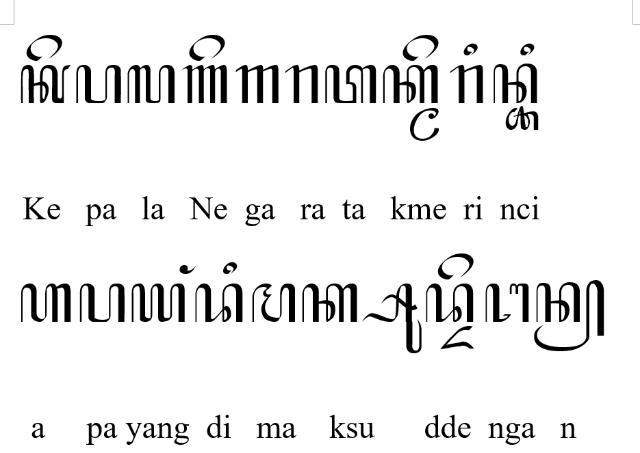-n: (533, 280, 605, 352)
K: (21, 64, 71, 104)
N: (182, 64, 228, 104)
_c: (506, 105, 538, 131)
_d: (439, 326, 475, 351)
_m: (410, 106, 440, 142)
_su: (363, 283, 423, 354)
d: (194, 283, 243, 323), (426, 284, 474, 322)
e: (188, 34, 226, 61), (438, 252, 474, 280), (26, 34, 62, 61), (403, 34, 439, 61)
g: (236, 64, 280, 104)
h: (20, 284, 72, 322)
i: (222, 262, 238, 276), (520, 42, 534, 56), (464, 43, 478, 55)
k: (382, 64, 440, 104), (300, 283, 358, 323)
l: (126, 65, 176, 105)
m: (252, 283, 296, 323)
n: (492, 64, 538, 104)
ng: (179, 265, 197, 275)
nga: (484, 284, 530, 324)
p: (78, 282, 125, 324), (75, 65, 122, 103)
r: (284, 65, 320, 105), (450, 64, 484, 104)
t: (324, 64, 378, 104)
y: (130, 283, 186, 323)
